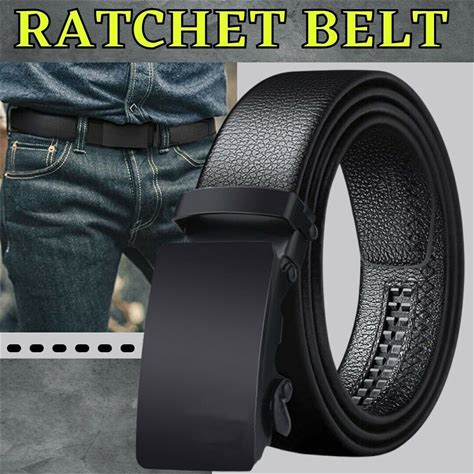cuero: (197, 67, 464, 456)
